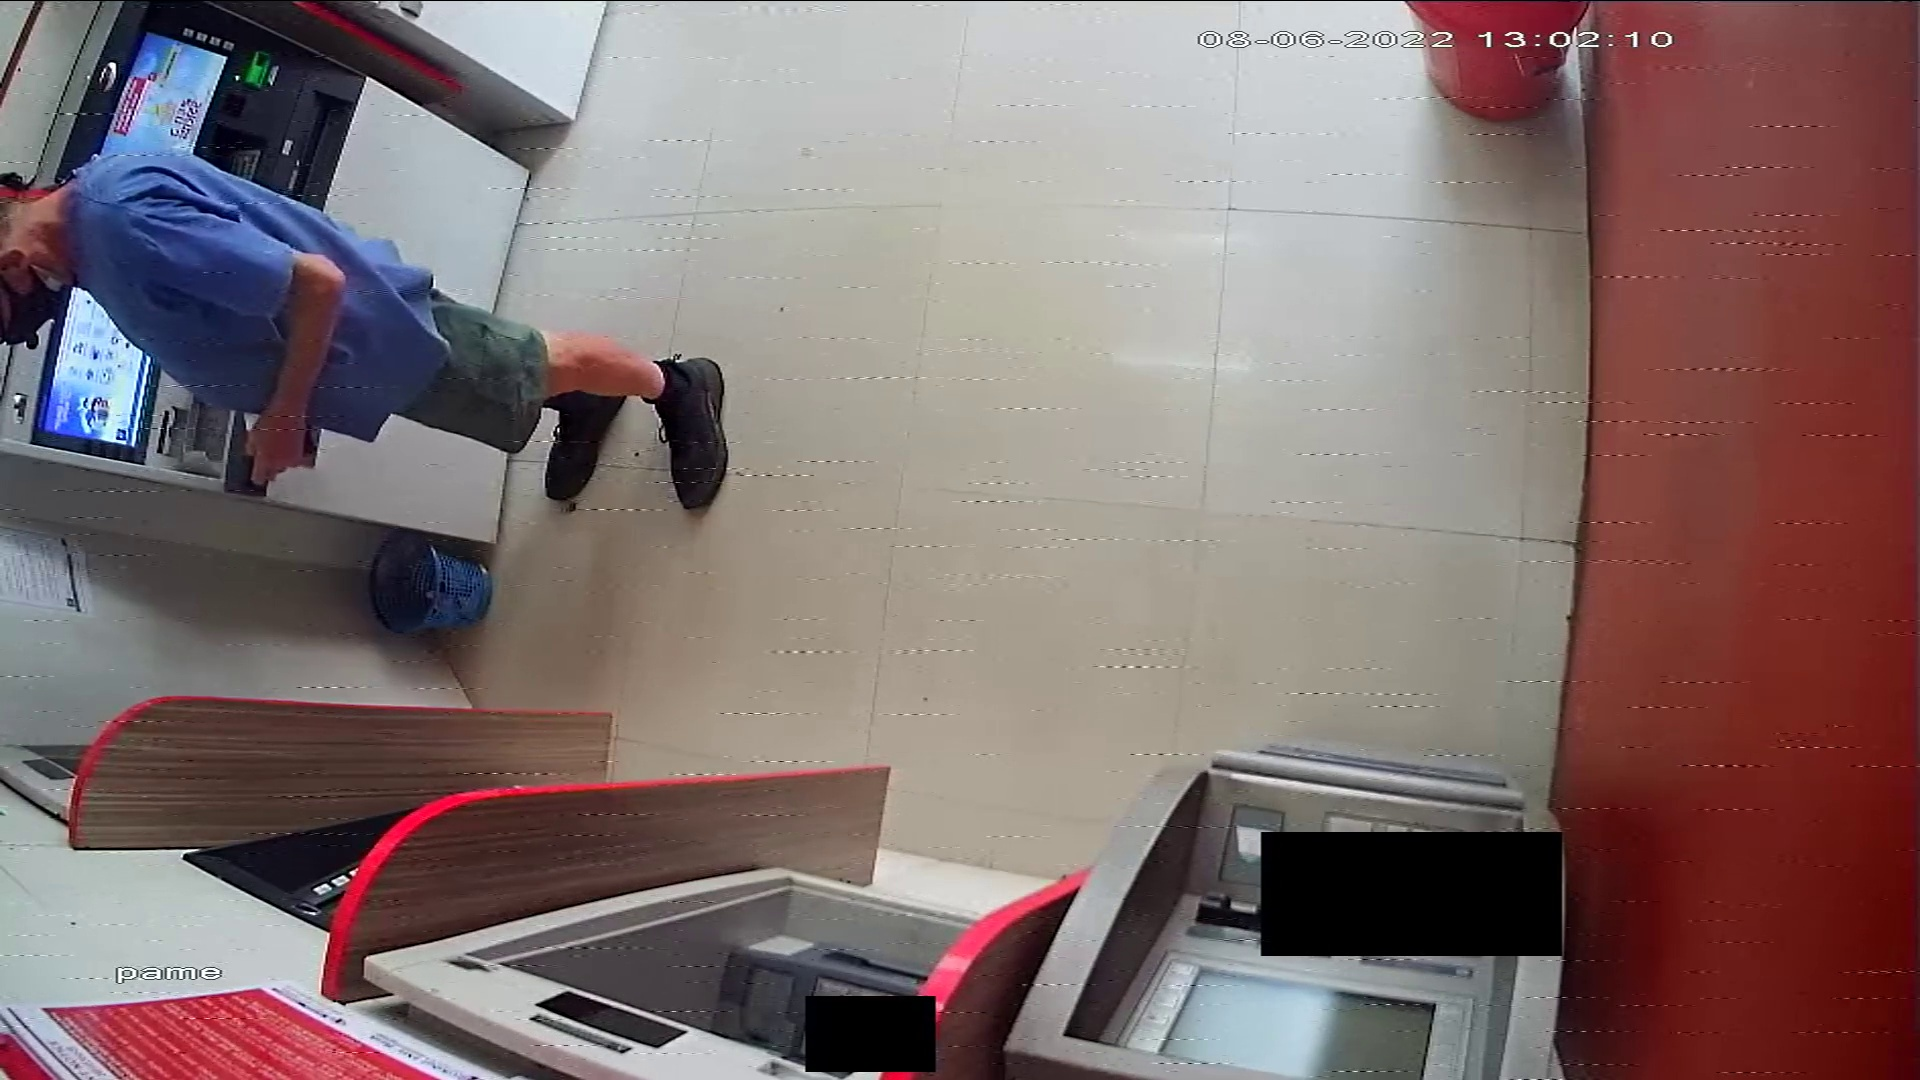person: (1, 149, 727, 513)
